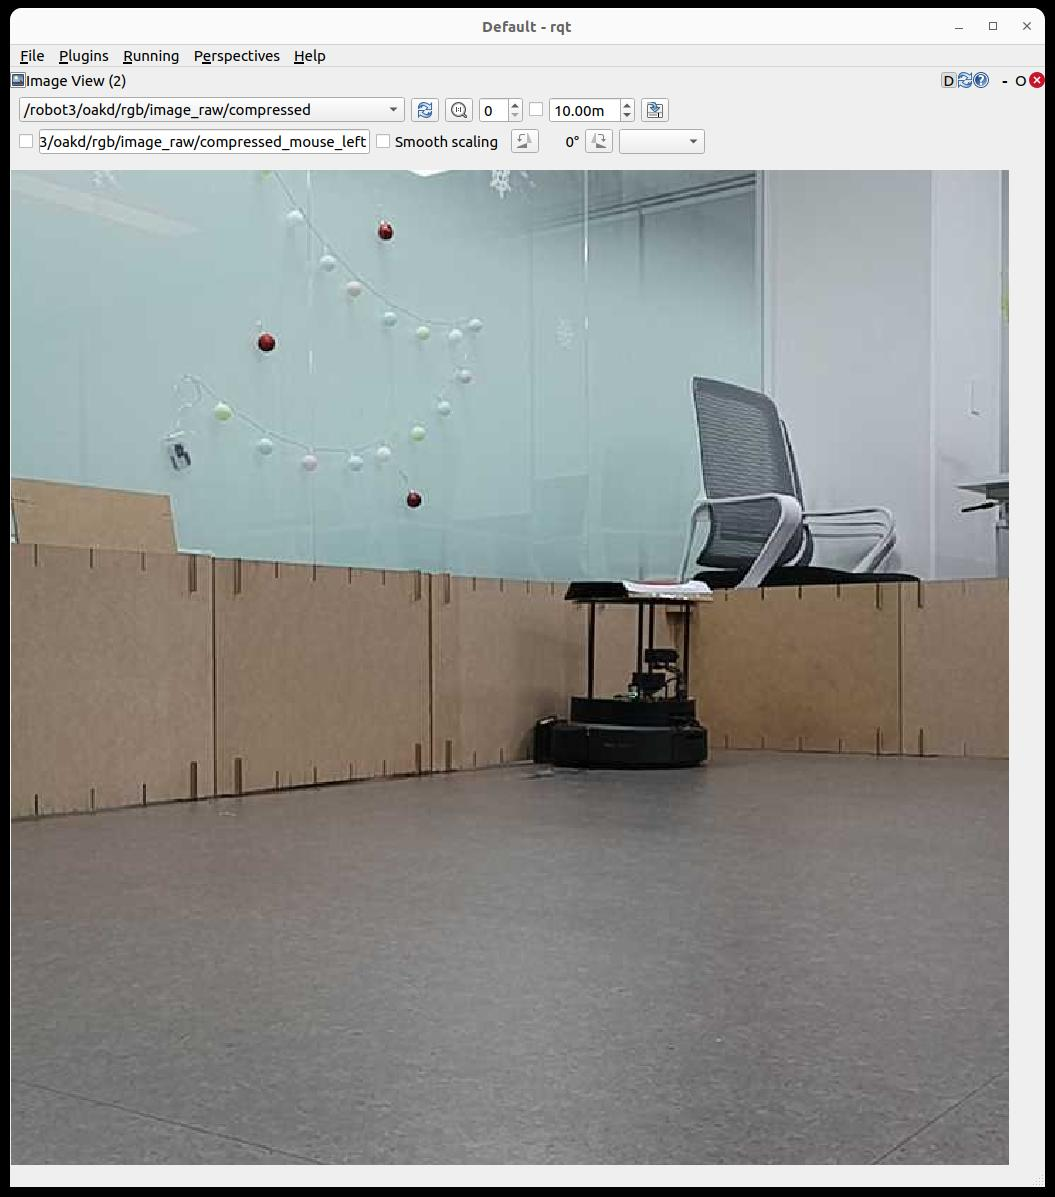AED: (566, 580, 711, 602)
Robot: (533, 600, 707, 768)
